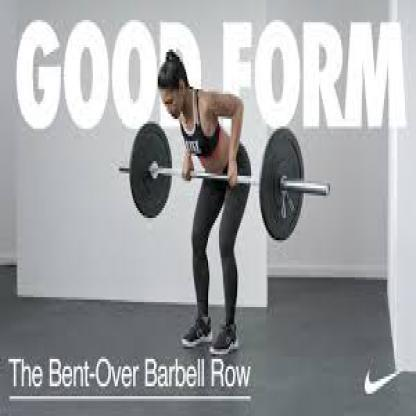Barbell: (253, 122, 310, 244)
